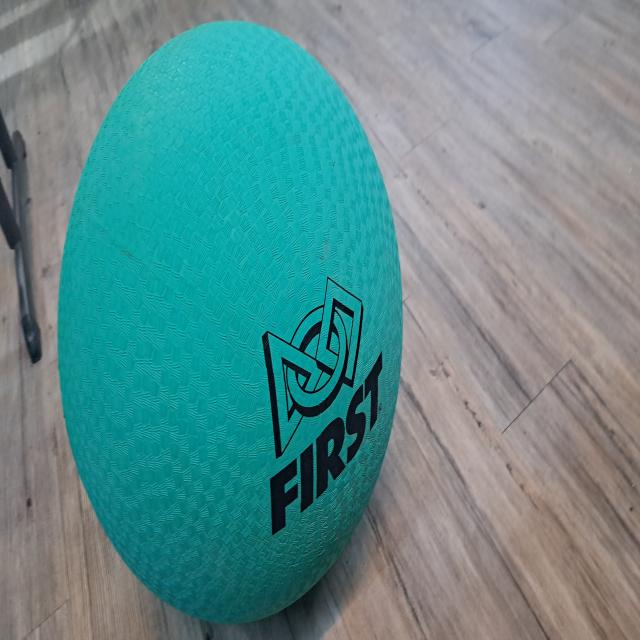ALGAE: (56, 18, 404, 625)
